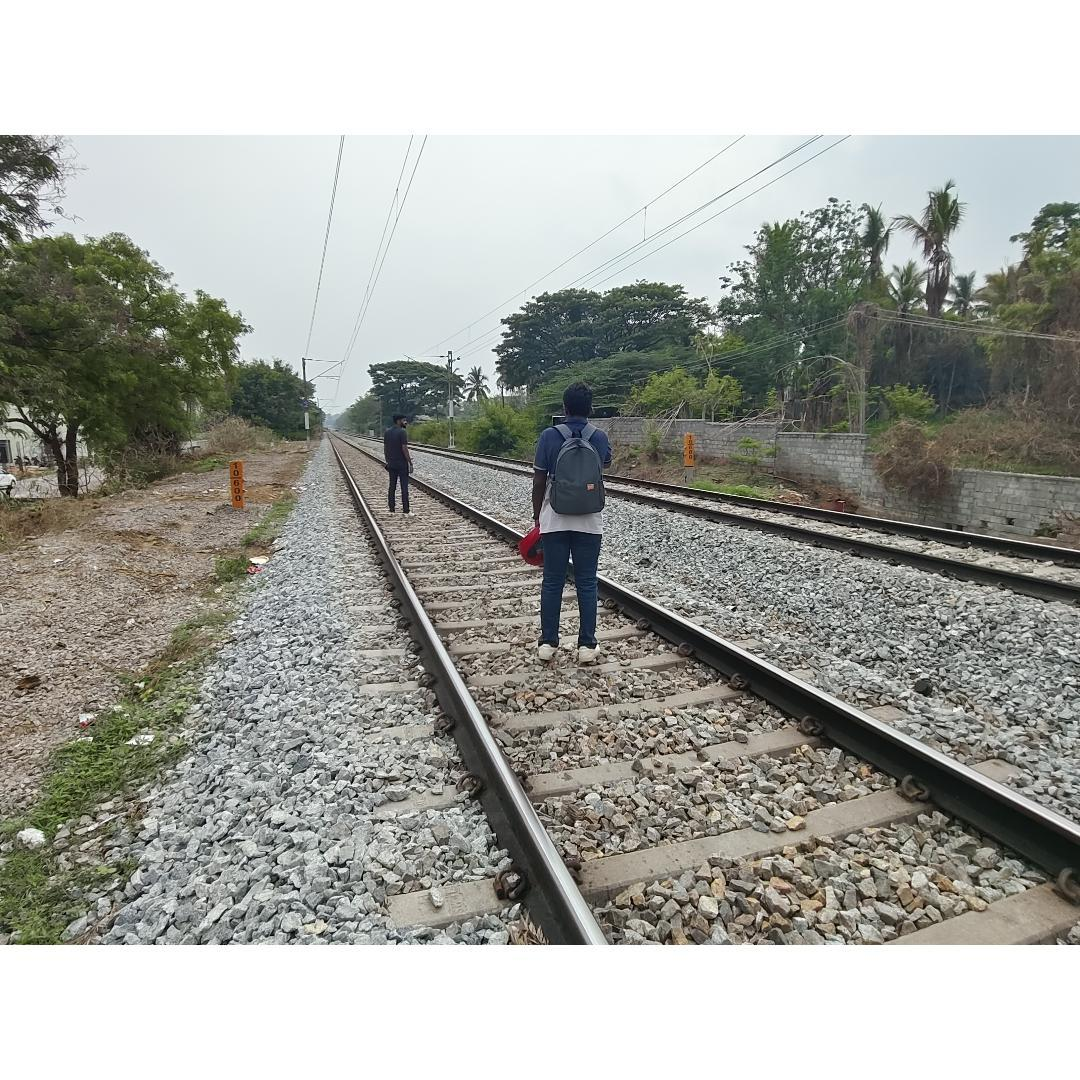standing: (515, 380, 614, 666), (383, 412, 416, 518)
track: (325, 430, 1080, 945)
